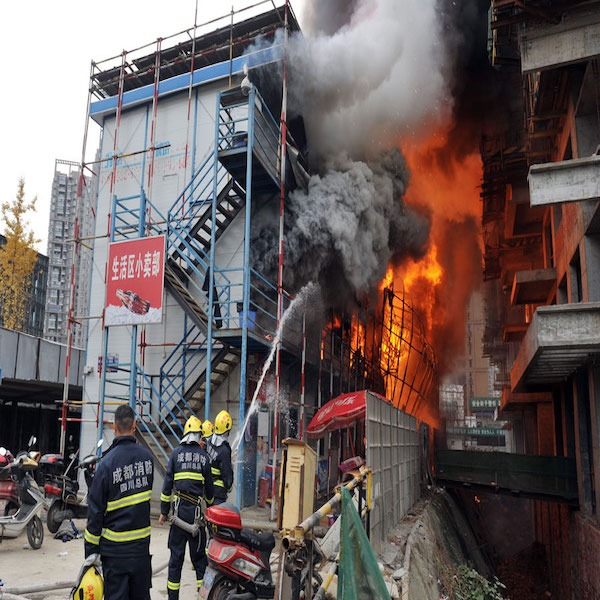fire: (385, 145, 441, 411)
helmet: (68, 568, 106, 599), (181, 413, 202, 434), (216, 412, 233, 437), (202, 422, 215, 438)
